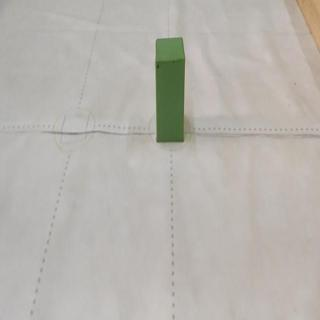greenbox: (155, 39, 183, 141)
